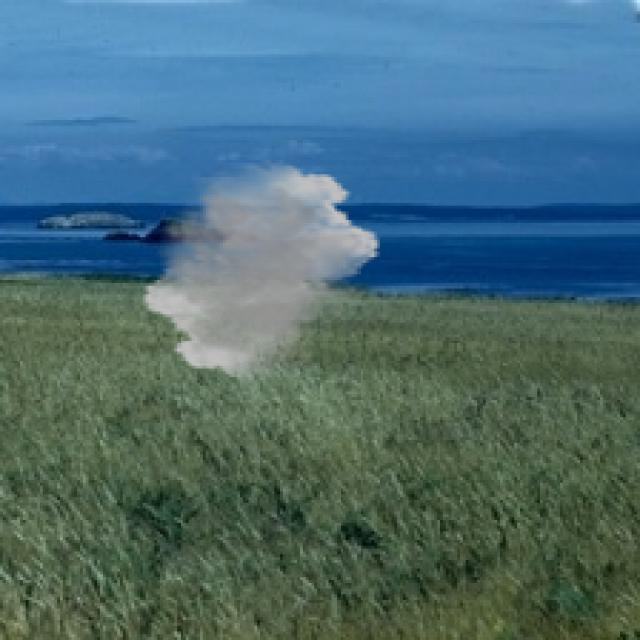smoke: (140, 160, 383, 383)
